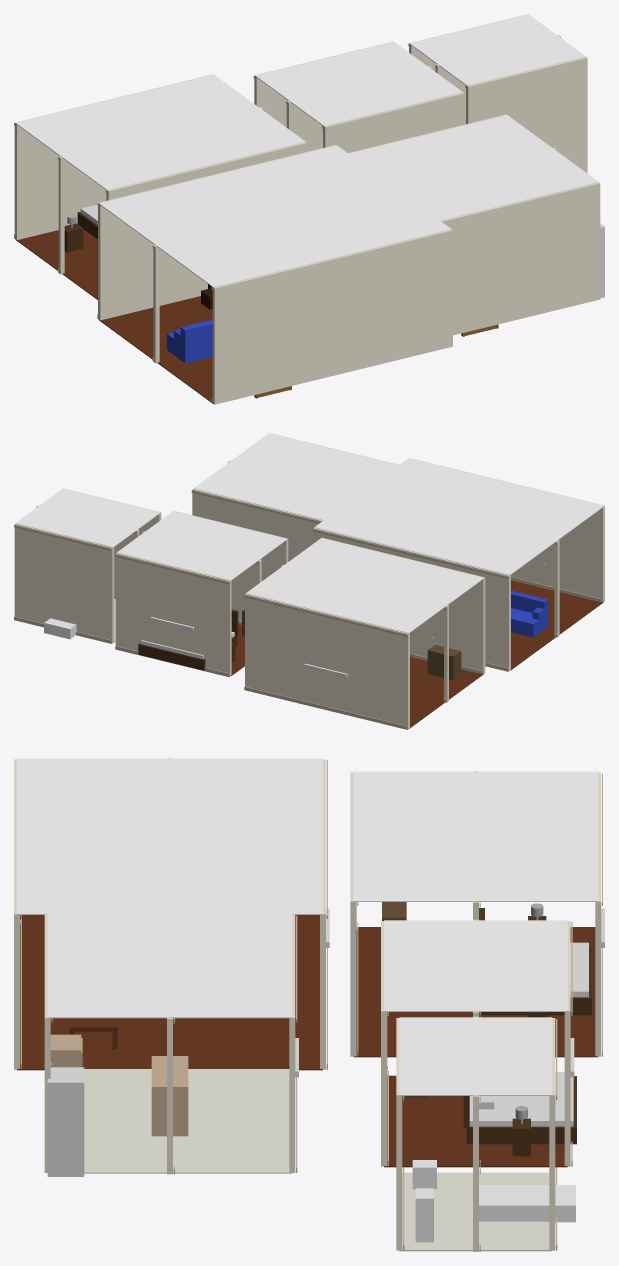
Rendered from ultra_detailed_5608.obj.
The picture shows the model from 3 angles, top to bottom: view 1: azimuth 30°, elevation 25°; view 2: azimuth 150°, elevation 25°; view 3: azimuth 270°, elevation 25°; orthographic projection. The views are drawn at different scales.
Parts seen in each view (by area): view 1: LivingRoom_front_wall_LivingRoom_front_wall_material, LivingRoom_ceiling_LivingRoom_ceiling_material, MasterBedroom_ceiling_MasterBedroom_ceiling_material, Kitchen_front_wall_Kitchen_front_wall_material, Kitchen_ceiling_Kitchen_ceiling_material, GuestBedroom_ceiling_GuestBedroom_ceiling_material, Bathroom_front_wall_Bathroom_front_wall_material, LivingRoom_back_wall_LivingRoom_back_wall_material, Bathroom_ceiling_Bathroom_ceiling_material, MasterBedroom_back_wall_MasterBedroom_back_wall_material, GuestBedroom_front_wall_GuestBedroom_front_wall_material, LivingRoom_floor_LivingRoom_floor_material (+8 smaller); view 2: LivingRoom_ceiling_LivingRoom_ceiling_material, MasterBedroom_back_wall_MasterBedroom_back_wall_material, MasterBedroom_ceiling_MasterBedroom_ceiling_material, GuestBedroom_back_wall_GuestBedroom_back_wall_material, Kitchen_ceiling_Kitchen_ceiling_material, Bathroom_back_wall_Bathroom_back_wall_material, GuestBedroom_ceiling_GuestBedroom_ceiling_material, Bathroom_ceiling_Bathroom_ceiling_material, LivingRoom_front_wall_LivingRoom_front_wall_material, MasterBedroom_front_wall_MasterBedroom_front_wall_material, LivingRoom_back_wall_LivingRoom_back_wall_material, Kitchen_back_wall_Kitchen_back_wall_material (+15 smaller); view 3: LivingRoom_ceiling_LivingRoom_ceiling_material, MasterBedroom_ceiling_MasterBedroom_ceiling_material, Kitchen_ceiling_Kitchen_ceiling_material, Kitchen_floor_Kitchen_floor_material, LivingRoom_floor_LivingRoom_floor_material, GuestBedroom_ceiling_GuestBedroom_ceiling_material, Bathroom_ceiling_Bathroom_ceiling_material, Bathroom_floor_Bathroom_floor_material, GuestBedroom_floor_GuestBedroom_floor_material, MasterBedroom_floor_MasterBedroom_floor_material, Kitchen_fridge_Kitchen_fridge_material, Bathroom_tub_Bathroom_toilet_material (+22 smaller).
Part boxes in pixels (x1,y1,x2,y2): LivingRoom_front_wall_LivingRoom_front_wall_material: (212,229,452,404); LivingRoom_ceiling_LivingRoom_ceiling_material: (99,145,451,287); MasterBedroom_ceiling_MasterBedroom_ceiling_material: (15,75,305,190); Kitchen_front_wall_Kitchen_front_wall_material: (441,182,600,335); Kitchen_ceiling_Kitchen_ceiling_material: (349,115,598,220); GuestBedroom_ceiling_GuestBedroom_ceiling_material: (255,42,462,126); Bathroom_front_wall_Bathroom_front_wall_material: (466,57,587,173); LivingRoom_back_wall_LivingRoom_back_wall_material: (98,145,336,320); Bathroom_ceiling_Bathroom_ceiling_material: (410,14,586,85); MasterBedroom_back_wall_MasterBedroom_back_wall_material: (14,74,213,239); GuestBedroom_front_wall_GuestBedroom_front_wall_material: (323,92,464,152); LivingRoom_floor_LivingRoom_floor_material: (99,296,213,404); LivingRoom_ceiling_LivingRoom_ceiling_material: (314,458,603,575); MasterBedroom_back_wall_MasterBedroom_back_wall_material: (245,593,409,729); MasterBedroom_ceiling_MasterBedroom_ceiling_material: (246,538,483,633); GuestBedroom_back_wall_GuestBedroom_back_wall_material: (115,553,231,676); Kitchen_ceiling_Kitchen_ceiling_material: (193,433,398,520); Bathroom_back_wall_Bathroom_back_wall_material: (14,523,114,643); GuestBedroom_ceiling_GuestBedroom_ceiling_material: (116,511,286,580); Bathroom_ceiling_Bathroom_ceiling_material: (15,488,159,547); LivingRoom_front_wall_LivingRoom_front_wall_material: (409,458,604,601); MasterBedroom_front_wall_MasterBedroom_front_wall_material: (322,537,485,673); LivingRoom_back_wall_LivingRoom_back_wall_material: (313,527,510,670); Kitchen_back_wall_Kitchen_back_wall_material: (192,489,322,561); LivingRoom_ceiling_LivingRoom_ceiling_material: (17,758,322,914); MasterBedroom_ceiling_MasterBedroom_ceiling_material: (353,771,598,901); Kitchen_ceiling_Kitchen_ceiling_material: (47,914,292,1018); Kitchen_floor_Kitchen_floor_material: (84,1069,292,1173); LivingRoom_floor_LivingRoom_floor_material: (17,915,322,1070); GuestBedroom_ceiling_GuestBedroom_ceiling_material: (384,920,567,1011); Bathroom_ceiling_Bathroom_ceiling_material: (399,1017,552,1095); Bathroom_floor_Bathroom_floor_material: (399,1172,551,1251); GuestBedroom_floor_GuestBedroom_floor_material: (384,1075,567,1167); MasterBedroom_floor_MasterBedroom_floor_material: (353,927,597,1057); Kitchen_fridge_Kitchen_fridge_material: (47,1067,84,1176); Bathroom_tub_Bathroom_toilet_material: (479,1185,575,1222).
Size of the model in its own units: 13.1 by 3.17 by 9.66.
